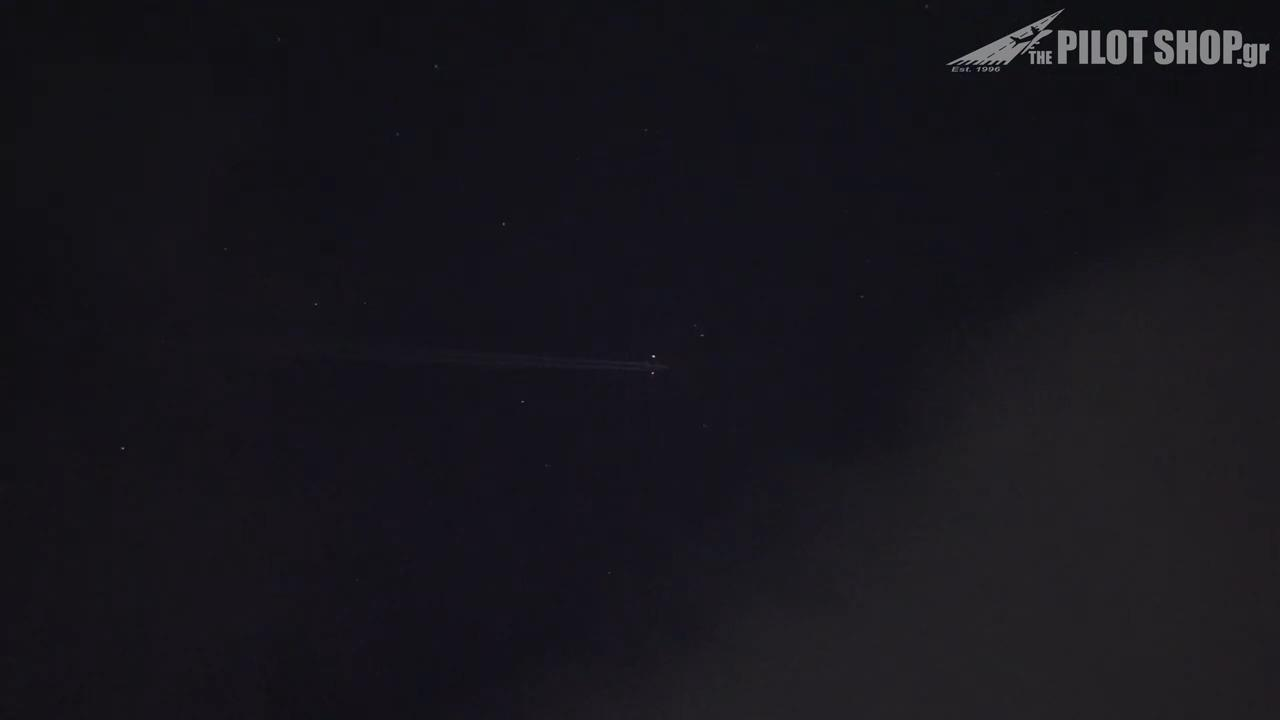Plane: (480, 344, 691, 384)
